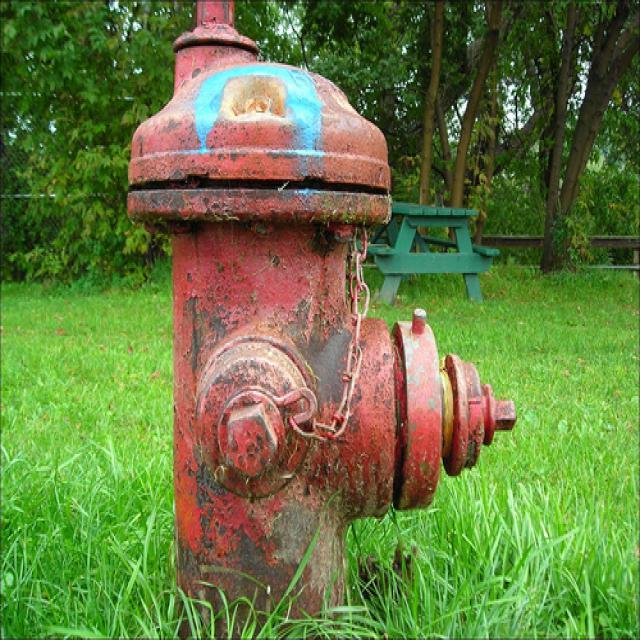fire_hydrant: (124, 0, 514, 631)
